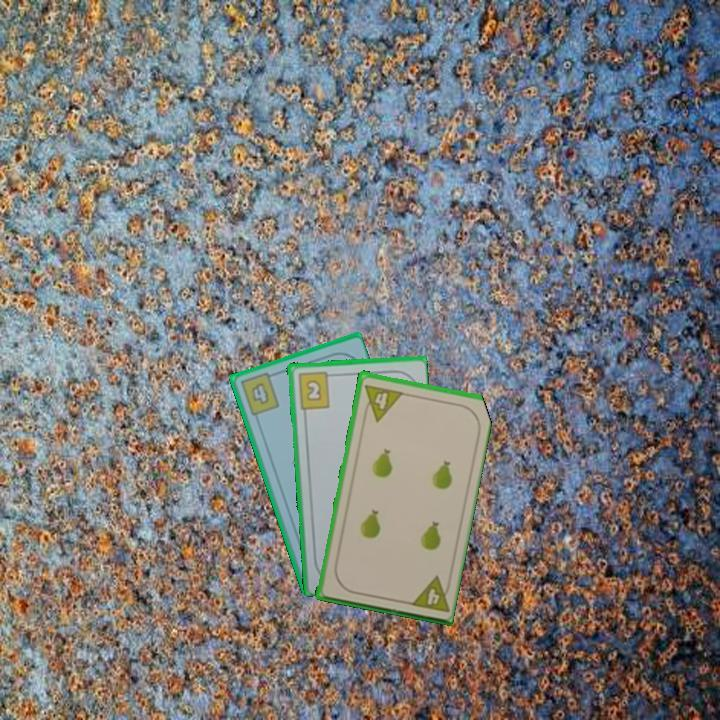2b: (294, 368, 336, 411)
4b: (237, 369, 282, 419)
4p: (405, 572, 454, 615), (359, 380, 405, 423)
